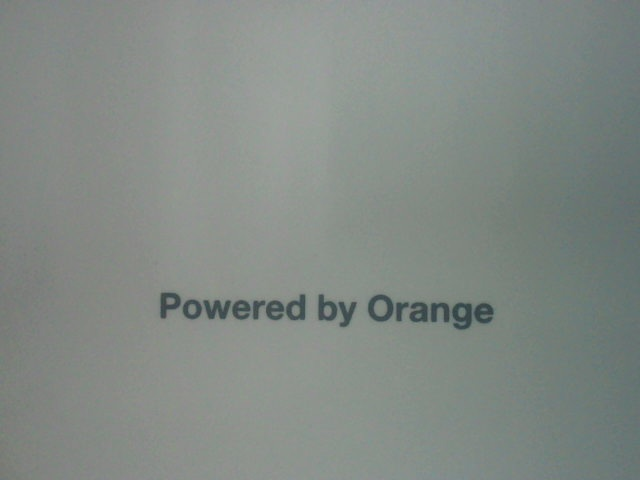AS_PowerByOrange: (155, 285, 502, 333)
